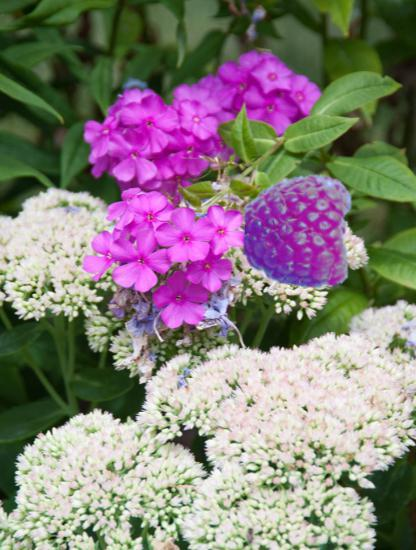Raspberry: (239, 172, 356, 289)
